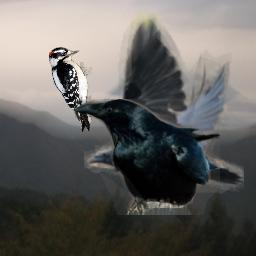Crow: (84, 11, 244, 208), (75, 99, 220, 215)
Woodpecker: (49, 47, 92, 132)
